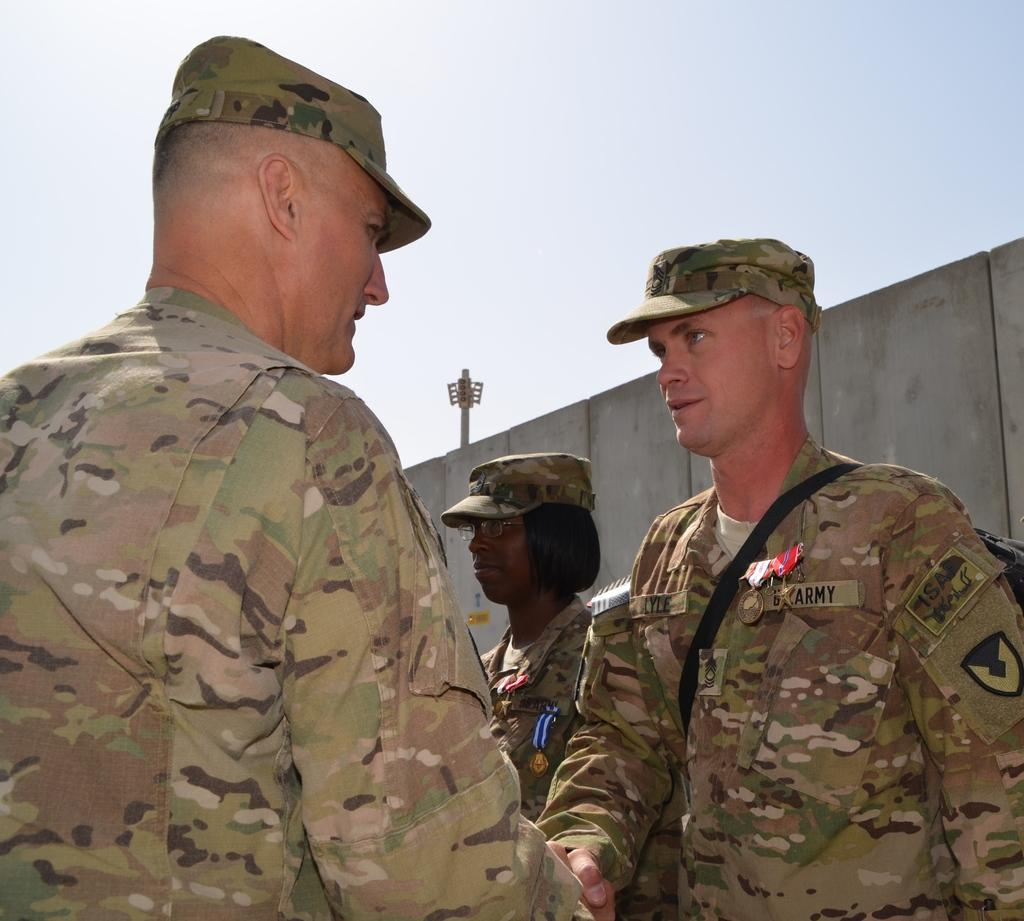Hat: (148, 31, 436, 252), (604, 237, 826, 345), (441, 449, 599, 526)
